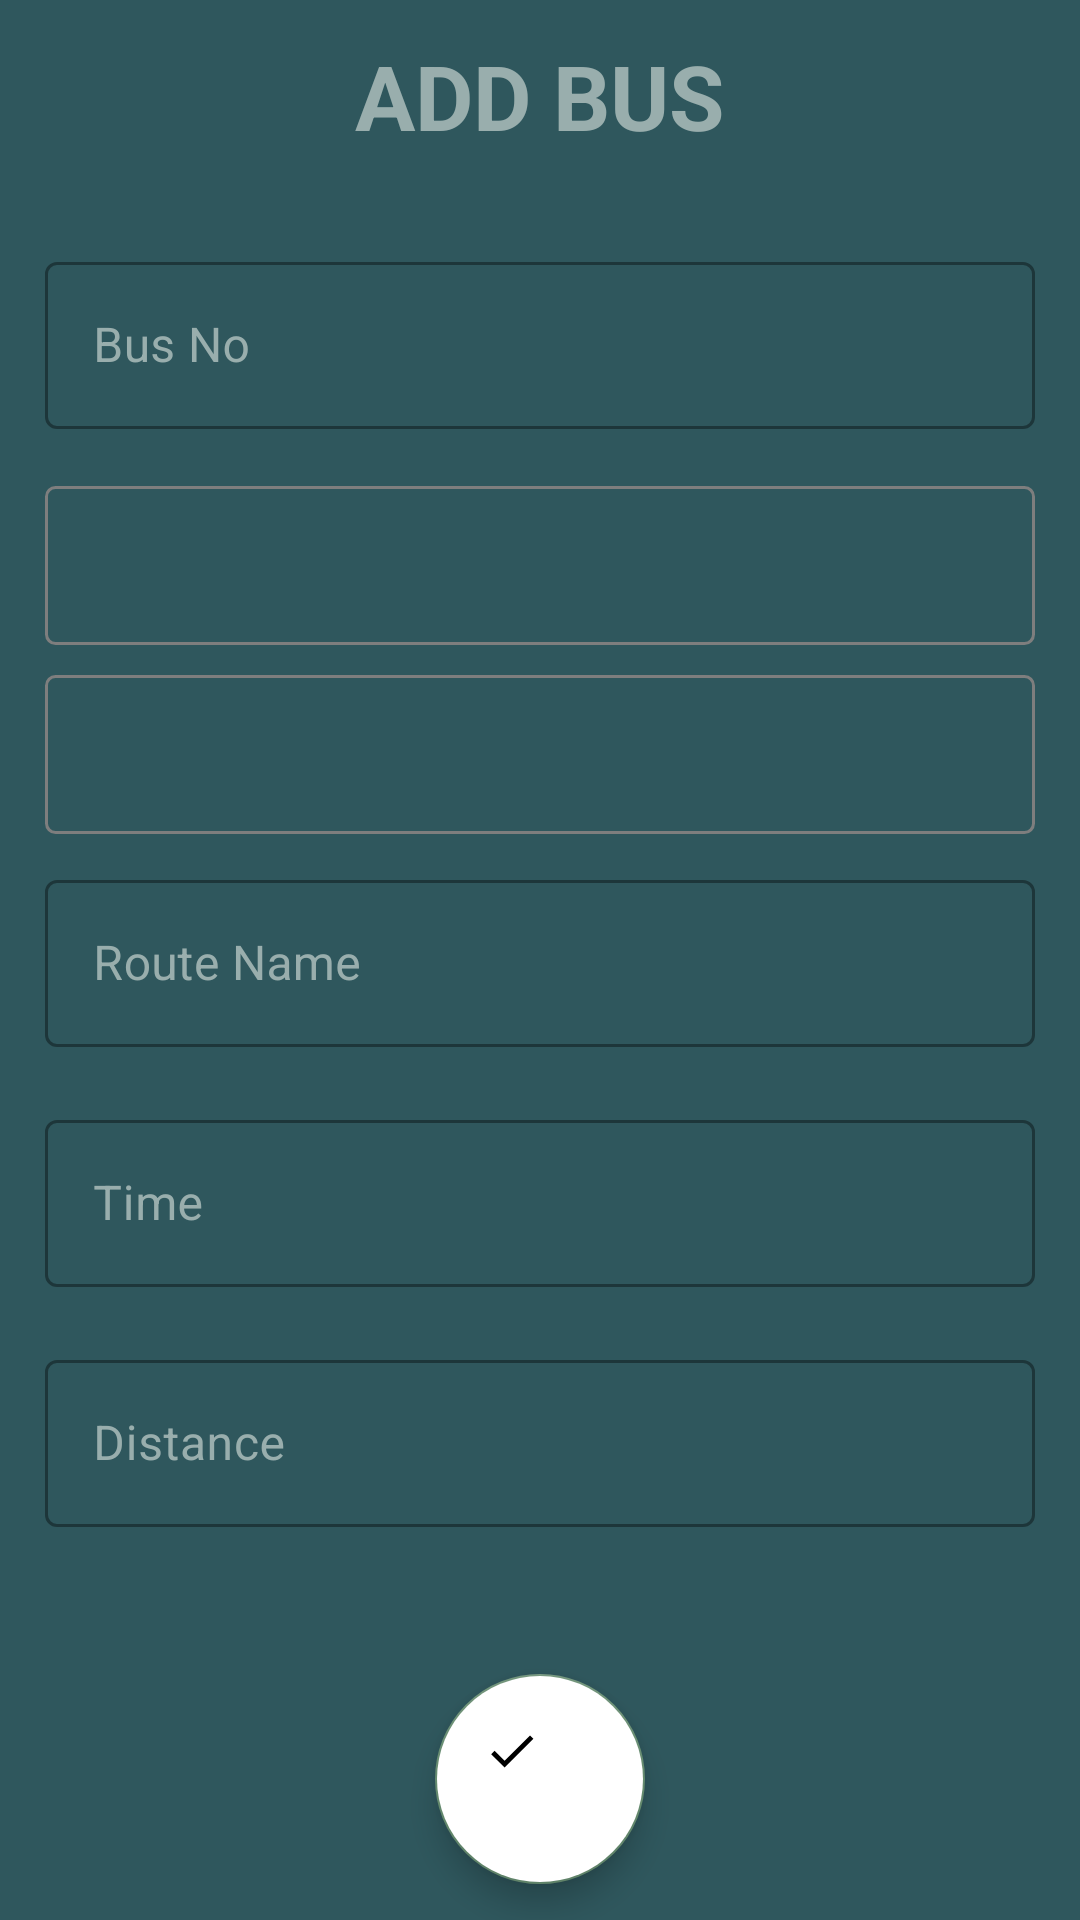

Icon bounding boxes for this 1080×1920 phone screenshot, format (x1, y1, x2, y2):
check: (435, 1674, 645, 1884)
